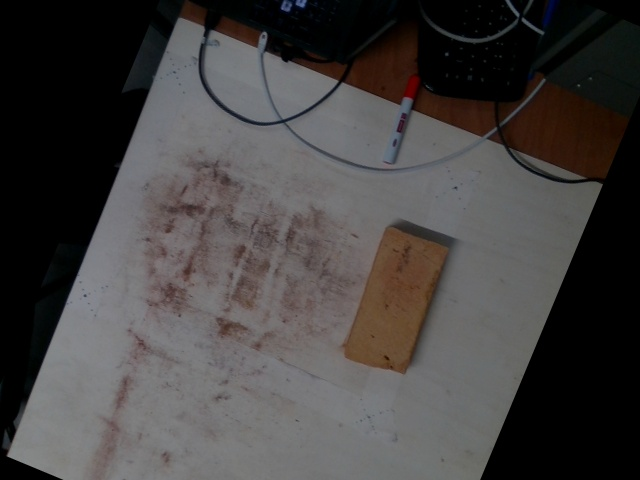brick: (345, 227, 448, 371)
